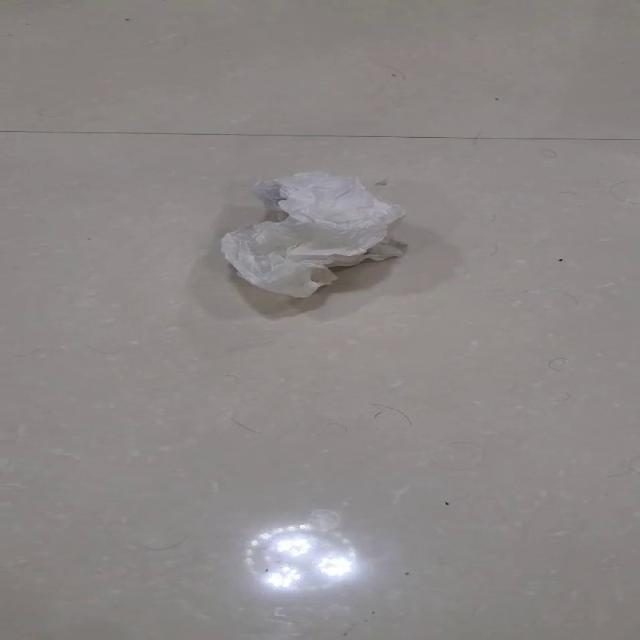plastic: (218, 170, 406, 298)
